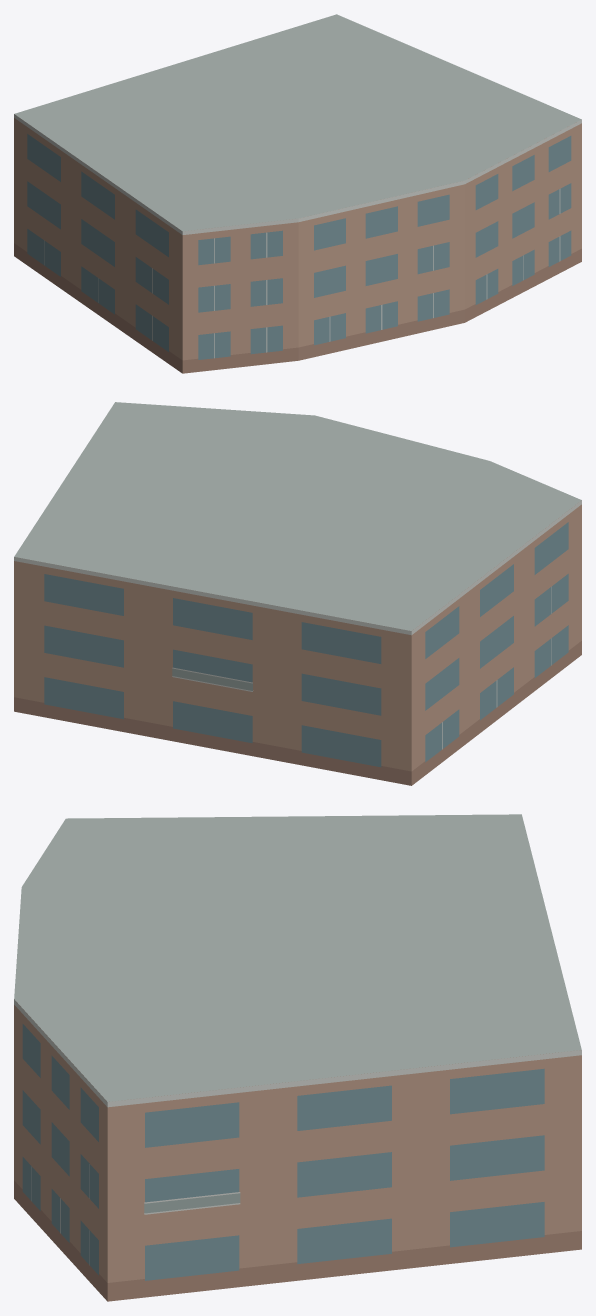
The model's file is residential-cca632d1-0910-423a-bd3b-e5ba3c07b5e6.glb.
3 views of the same model, one above another, from view 1: azimuth 30°, elevation 25°; view 2: azimuth 150°, elevation 25°; view 3: azimuth 270°, elevation 25° (orthographic). The views are drawn at different scales.
Visible parts, largest first — view 1: residential-cca632d1-0910-423a-bd3b-e5ba3c07b5e6.tmp; view 2: residential-cca632d1-0910-423a-bd3b-e5ba3c07b5e6.tmp; view 3: residential-cca632d1-0910-423a-bd3b-e5ba3c07b5e6.tmp.
Boxes of the visible parts, x1=… form: residential-cca632d1-0910-423a-bd3b-e5ba3c07b5e6.tmp: x1=14, y1=14, x2=581, y2=373; residential-cca632d1-0910-423a-bd3b-e5ba3c07b5e6.tmp: x1=14, y1=402, x2=581, y2=785; residential-cca632d1-0910-423a-bd3b-e5ba3c07b5e6.tmp: x1=14, y1=814, x2=581, y2=1301.
Size of the model in its own units: 28.29 by 9.15 by 23.6.
